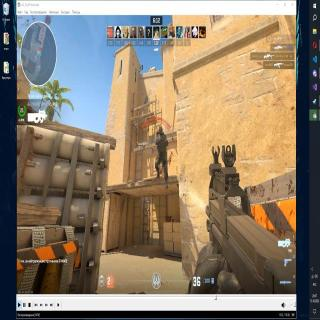CT-Body: (153, 122, 171, 188)
CT-Head: (157, 122, 164, 136)
